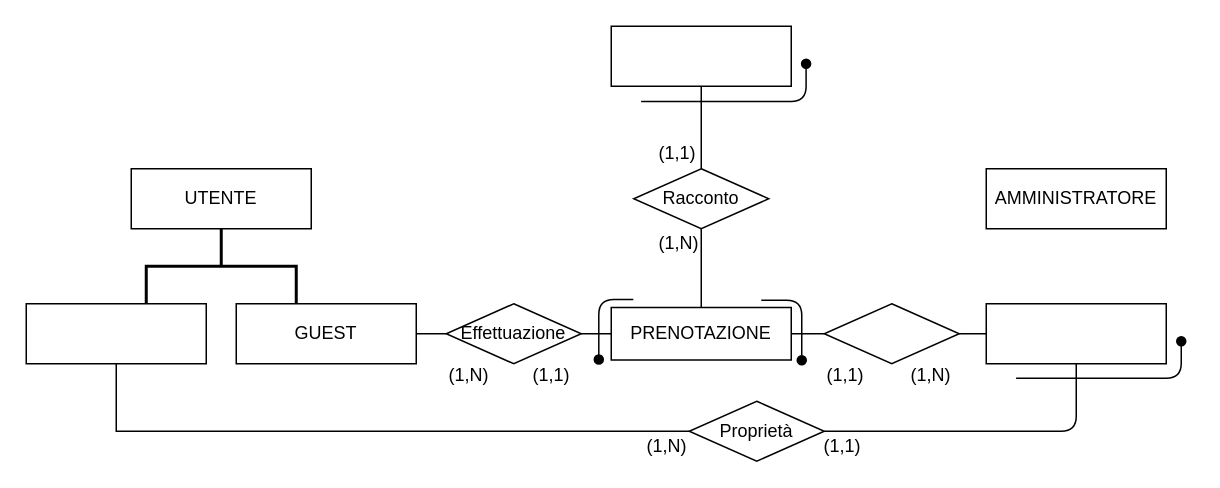
This 1220x488 diagram has some shape labels left out. The shapes that lost their labels are listed below. From the top down, each one's box as (x1, y1, x2, y2) in pixels, then its label:
(610, 25, 791, 86): COMMENTO
(25, 302, 206, 364): HOST
(823, 302, 959, 364): Presso
(985, 302, 1166, 364): ANNUNCIO
